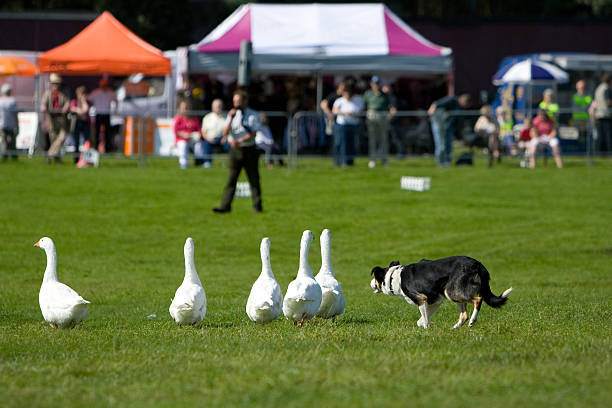goose: (26, 232, 92, 332), (164, 235, 213, 327), (242, 235, 283, 320), (284, 228, 321, 320), (312, 227, 347, 314)
